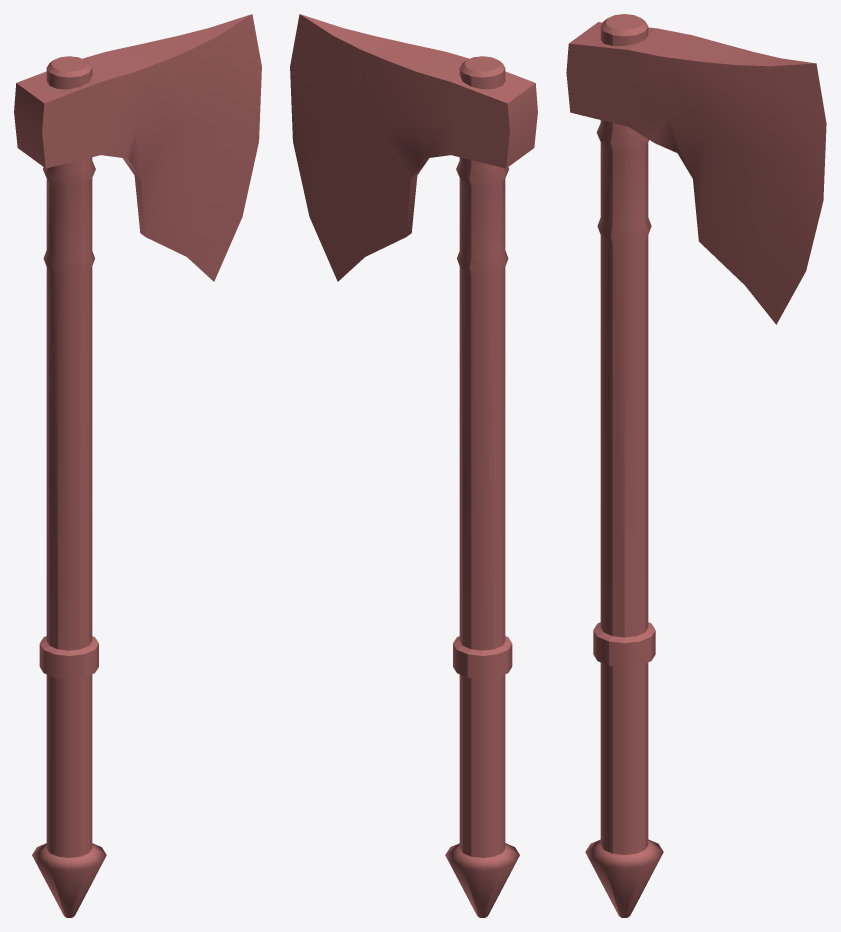
File: Axe_2.fbx
3 renders of one model, left to right at view 1: azimuth 30°, elevation 25°; view 2: azimuth 150°, elevation 25°; view 3: azimuth 330°, elevation 25°, orthographic. The views are drawn at different scales.
Visible parts, largest first — view 1: To1; view 2: To1; view 3: To1.
Boxes of the visible parts, x1,y1,x2,y2 form: To1: (14,14,261,917); To1: (290,14,537,917); To1: (566,14,826,917).
Bounding box in the file's own units: 75.13 × 263 × 20.84.
